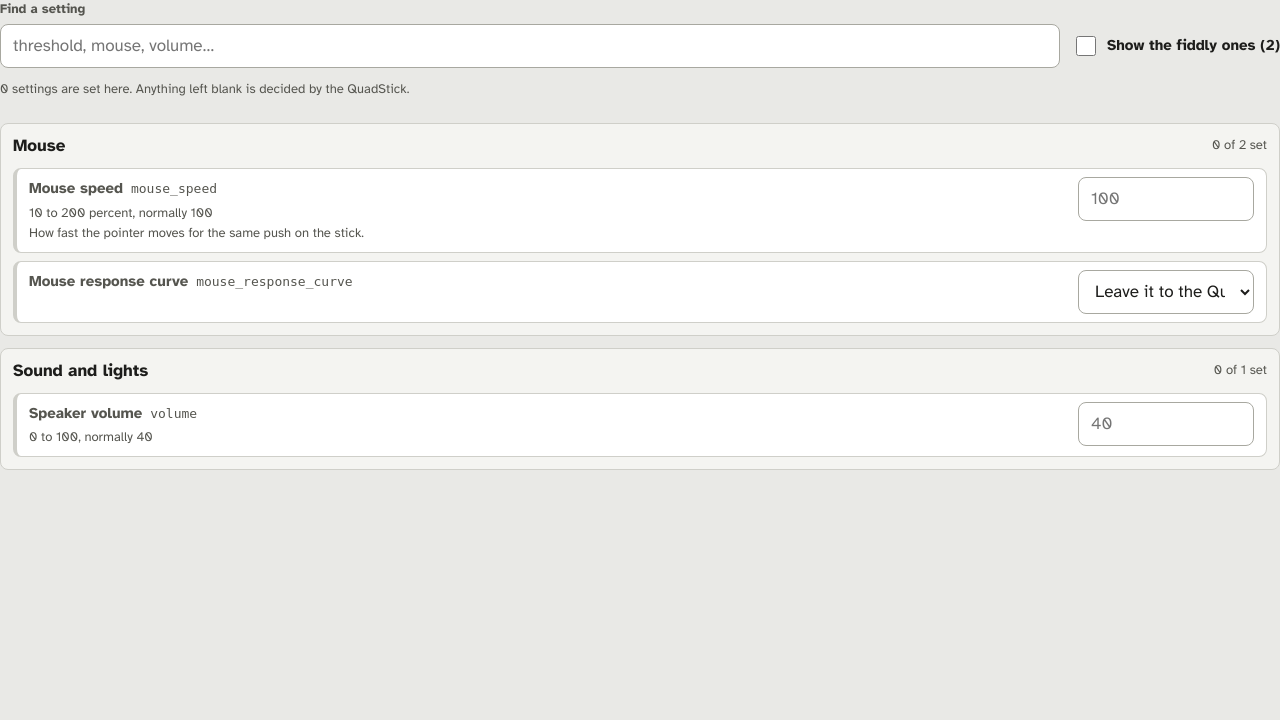
Test case: PreferencesEditor › hides the fiddly ones until asked
Expected: the text "Circular dead zone" is not shown
Click the checkbox labelled "Show the fiddly ones (2)" at point(1086, 46), box 1076,36 -> 1096,56
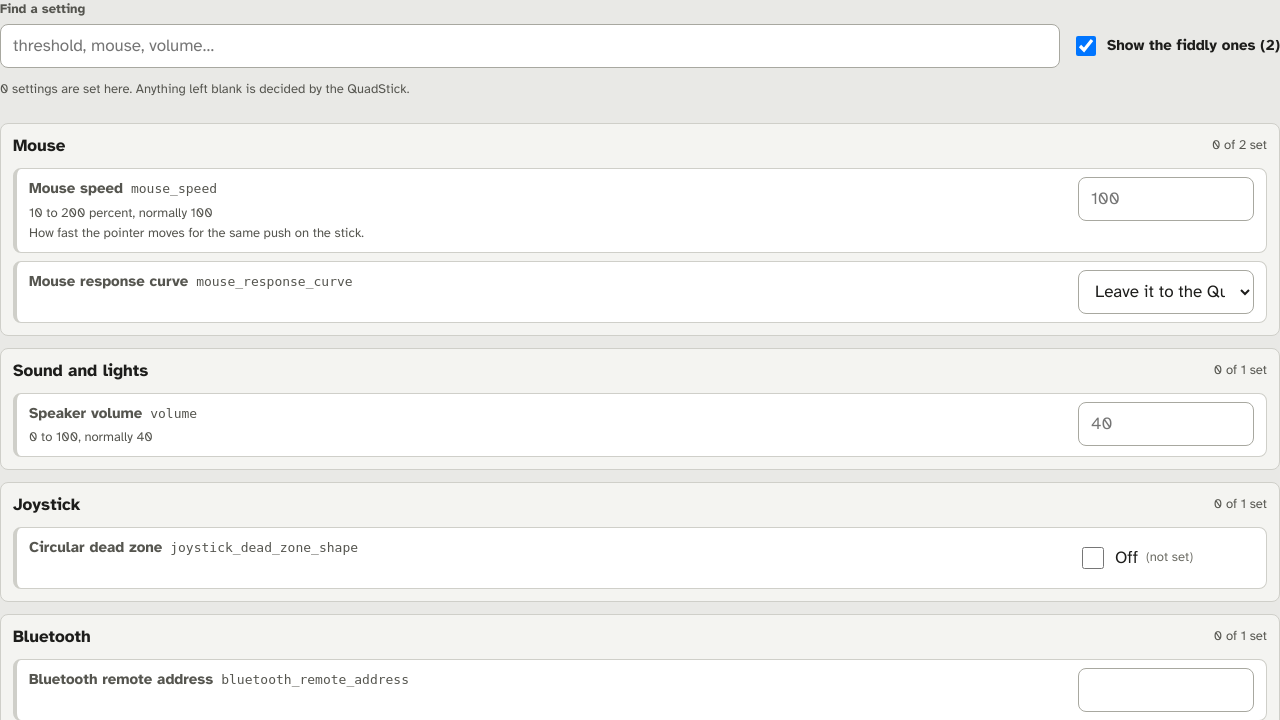
Result: the text "Circular dead zone" is shown at 29,538 -> 162,556
